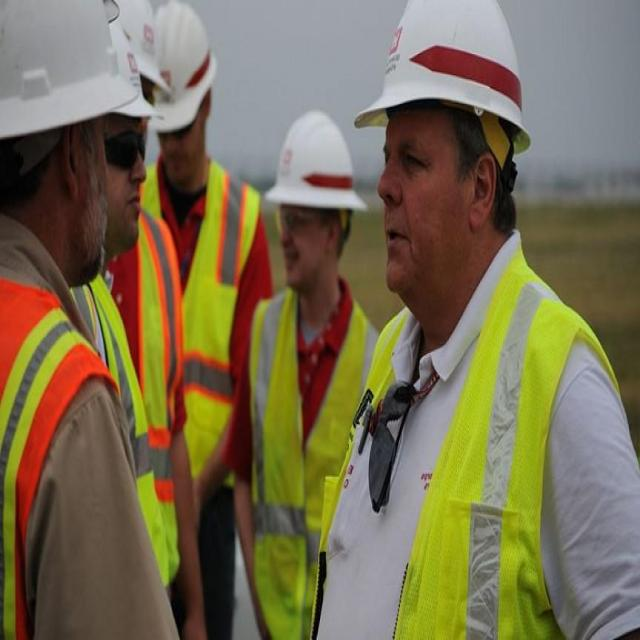Reflective-Jacket: (308, 267, 635, 632), (246, 287, 373, 636), (0, 253, 114, 640), (139, 165, 262, 503)
Safety-Helmet: (354, 2, 533, 164), (0, 0, 153, 145), (264, 100, 368, 221), (150, 4, 221, 138)
